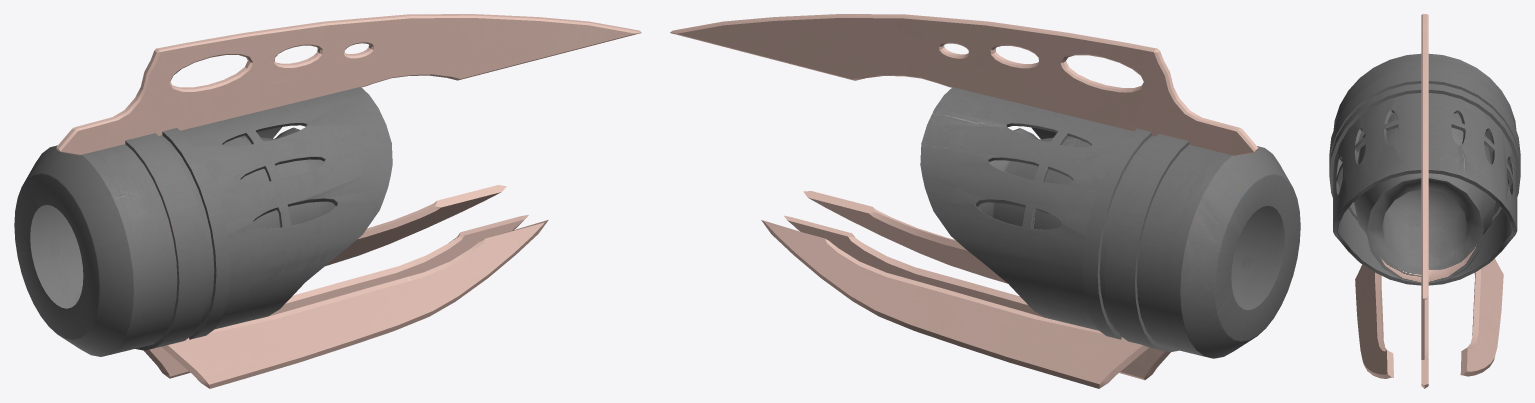
Rendered from guard_17_r_c.glb.
3 views of the same model, side by side, from view 1: azimuth 30°, elevation 25°; view 2: azimuth 150°, elevation 25°; view 3: azimuth 270°, elevation 25° (orthographic). The views are drawn at different scales.
Visible parts, largest first — view 1: guard_17_r_c_lod0; view 2: guard_17_r_c_lod0; view 3: guard_17_r_c_lod0.
Part boxes in pixels (x1,y1,x2,y2): guard_17_r_c_lod0: (14,14,641,388); guard_17_r_c_lod0: (670,14,1300,388); guard_17_r_c_lod0: (1329,14,1520,388).
Size of what is drawn, in the model's own units: 0.1042 by 0.0567 by 0.0348.
1 material, 1 textured.
